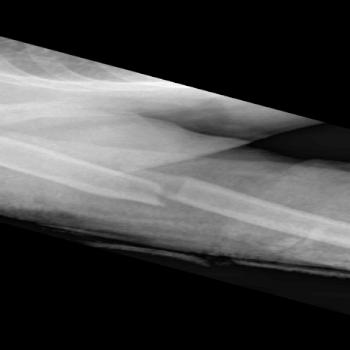Fracture: (129, 172, 214, 214)
